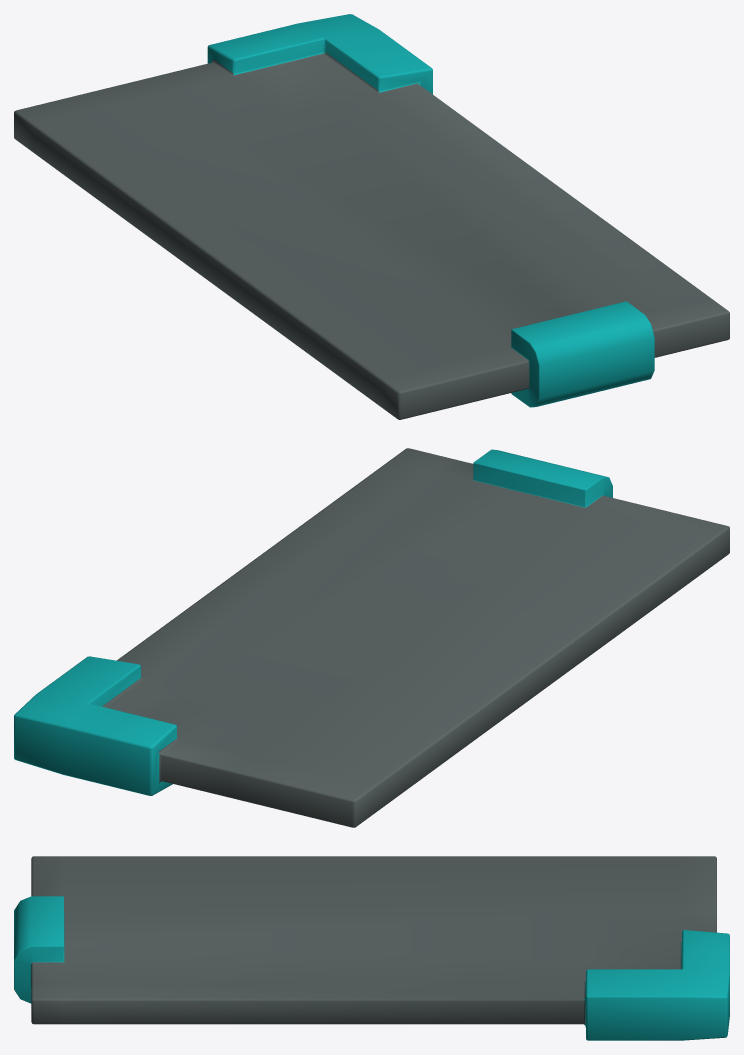
File: SM_Table3.fbx
3 renders of one model, top to bottom at view 1: azimuth 30°, elevation 25°; view 2: azimuth 150°, elevation 25°; view 3: azimuth 270°, elevation 25°, orthographic. The views are drawn at different scales.
Parts seen in each view (by area): view 1: SM_Table3; view 2: SM_Table3; view 3: SM_Table3.
Boxes of the visible parts, x1,y1,x2,y2 form: SM_Table3: (14, 14, 729, 419); SM_Table3: (14, 448, 729, 827); SM_Table3: (14, 856, 729, 1040).
Bounding box in the file's own units: 18.77 × 37.7 × 3.37.
Materials: 1 (1 with a texture image).
